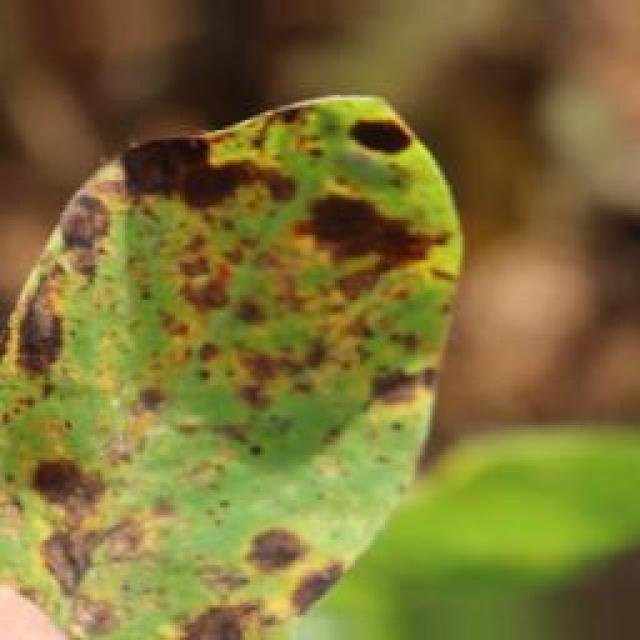Yellowish: (0, 55, 450, 633)
